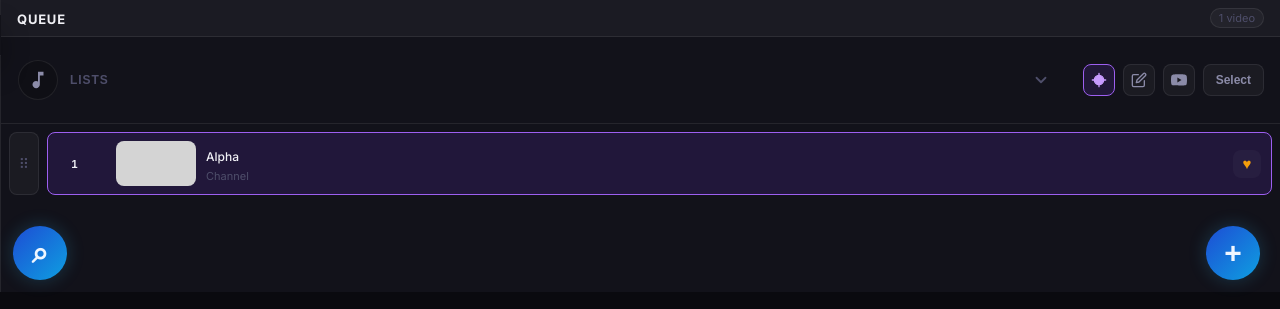
PlaylistSidebar › shows tiered support options in the context menu when the song is already supported
Right-click the button with aria-label "Play Alpha": x=156, y=164 [47, 132, 1272, 195]
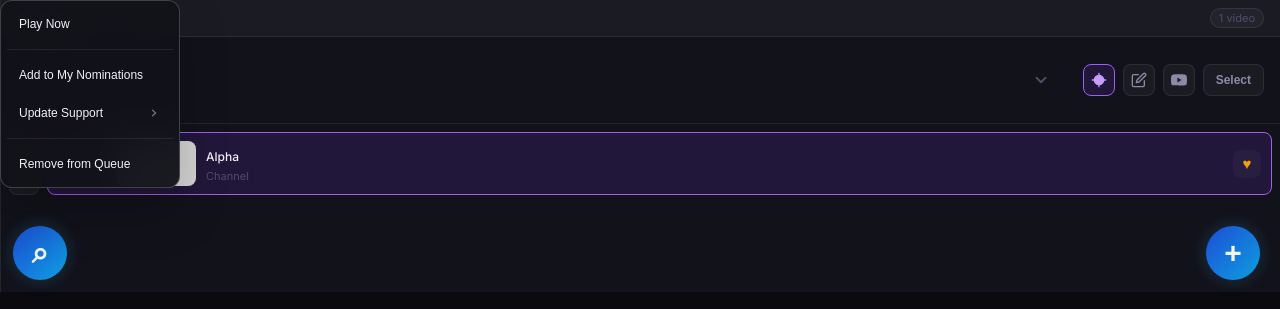
Expected: the menu item "Update Support" is shown, [7, 96, 173, 130]
